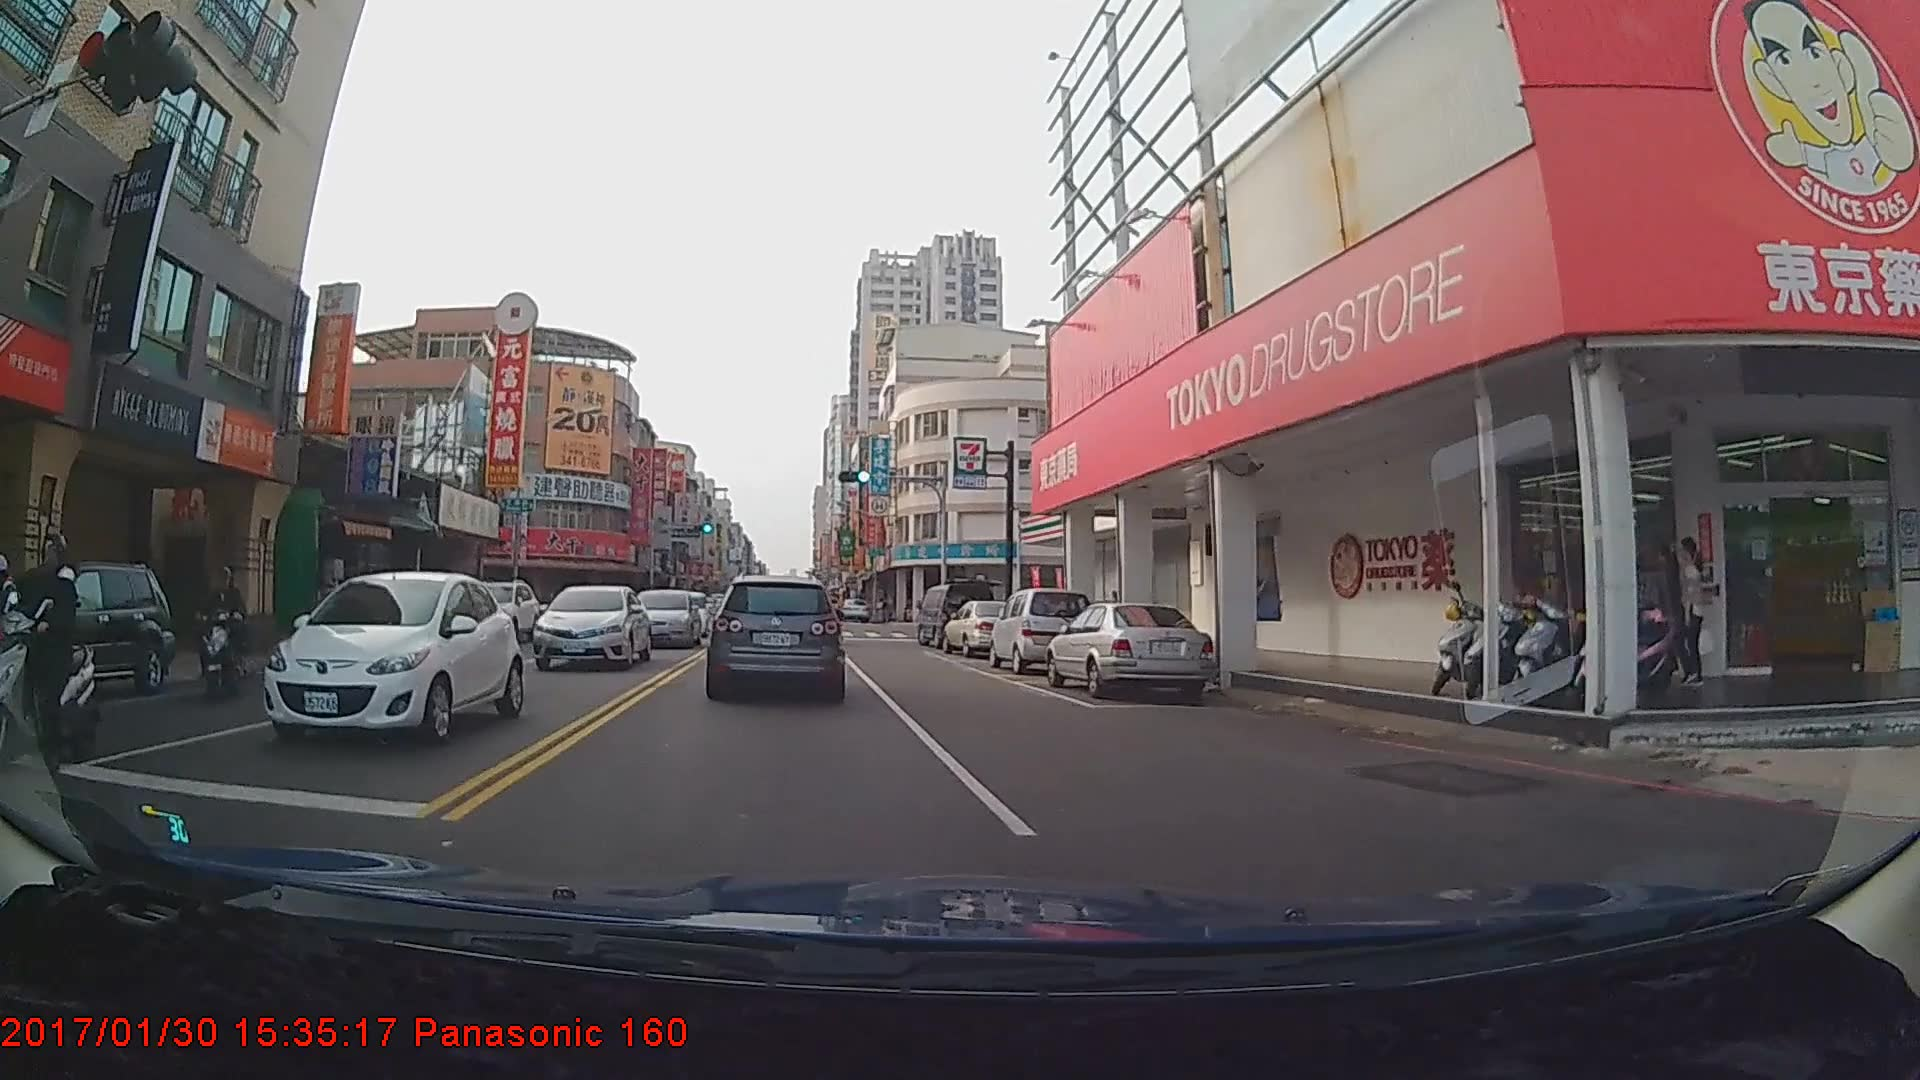pedestrian: (1644, 542, 1692, 686), (1675, 532, 1711, 689)
rider: (9, 536, 108, 759), (192, 566, 258, 699)
vehicle: (241, 568, 511, 753), (0, 560, 172, 695), (1043, 598, 1213, 705), (707, 574, 841, 700), (529, 583, 650, 669), (987, 586, 1093, 673), (912, 579, 996, 650), (453, 578, 536, 642), (939, 599, 1026, 657), (623, 587, 700, 648), (841, 596, 870, 621)
